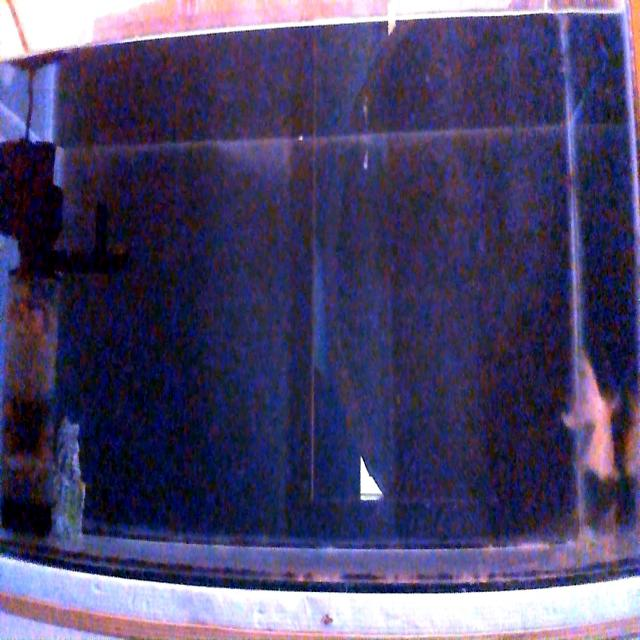fish: (560, 352, 620, 486), (621, 391, 640, 480)
